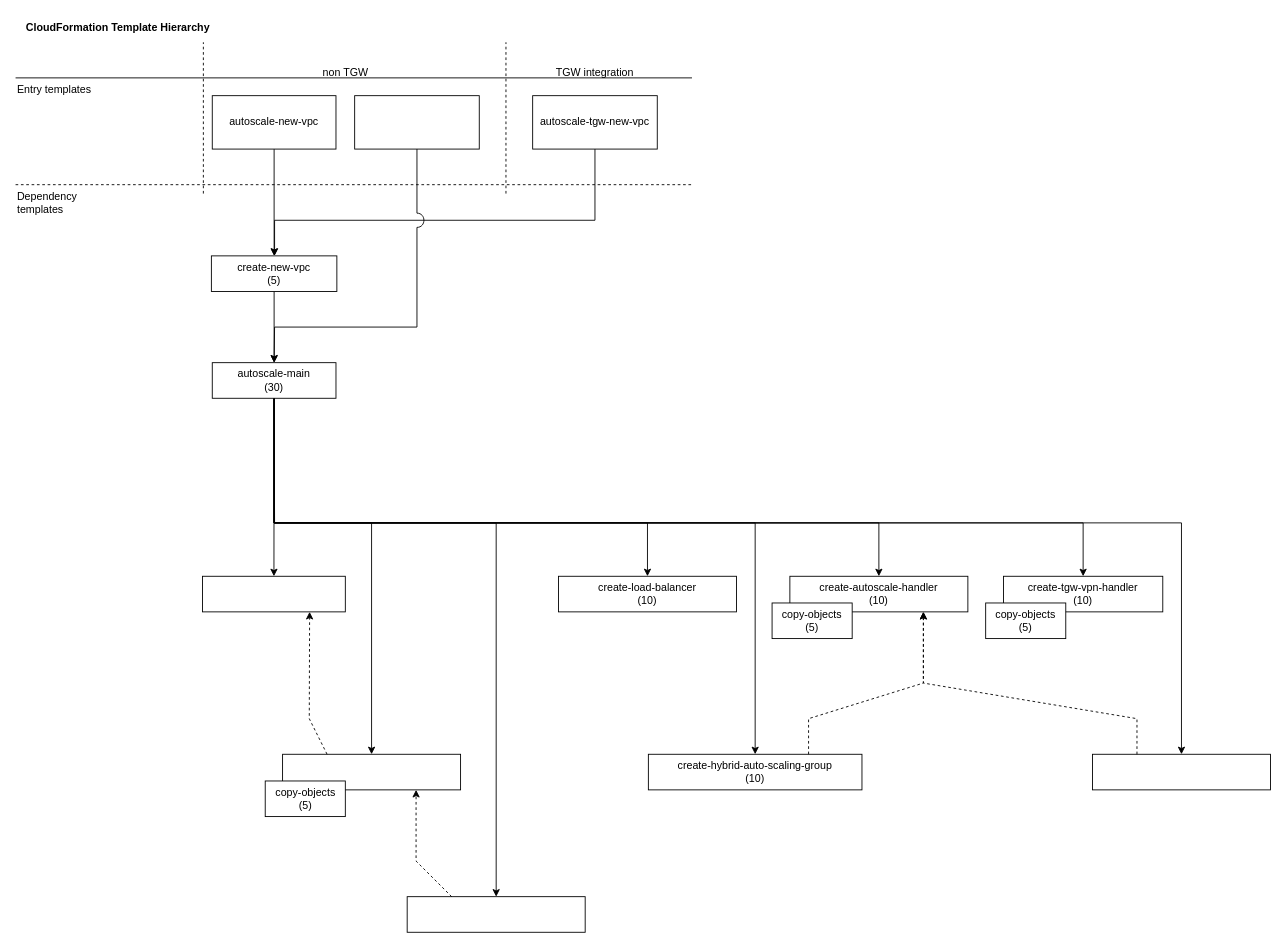
Image size: 1286x948. Some labels were removed from this diagram. The shapes that lost their labels are listed below. From the top down, each one's centre as x and y in pixels, then its label:
point 416,122: autoscale-existing-vpc
point 273,593: create-db-table (10)
point 371,771: create-fortianalyzer-components (10)
point 1181,771: create-transit-gateway-components (10)
point 495,914: create-fortianalyzer-service (10)
